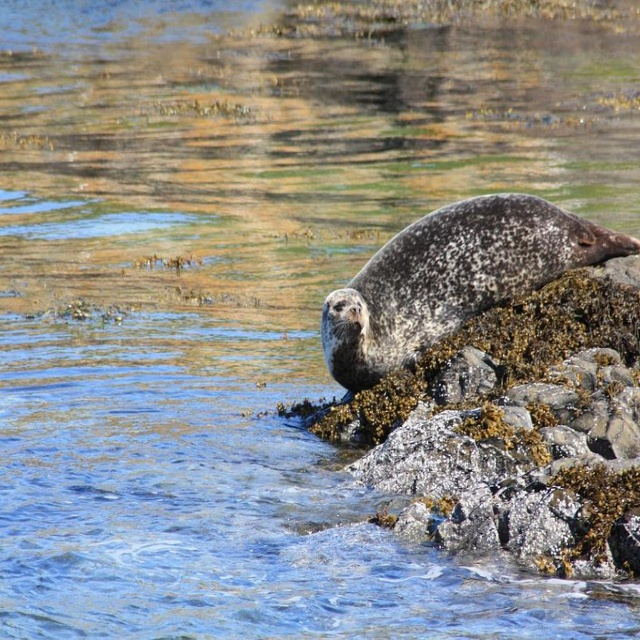Harbor seal: (321, 193, 640, 392)
